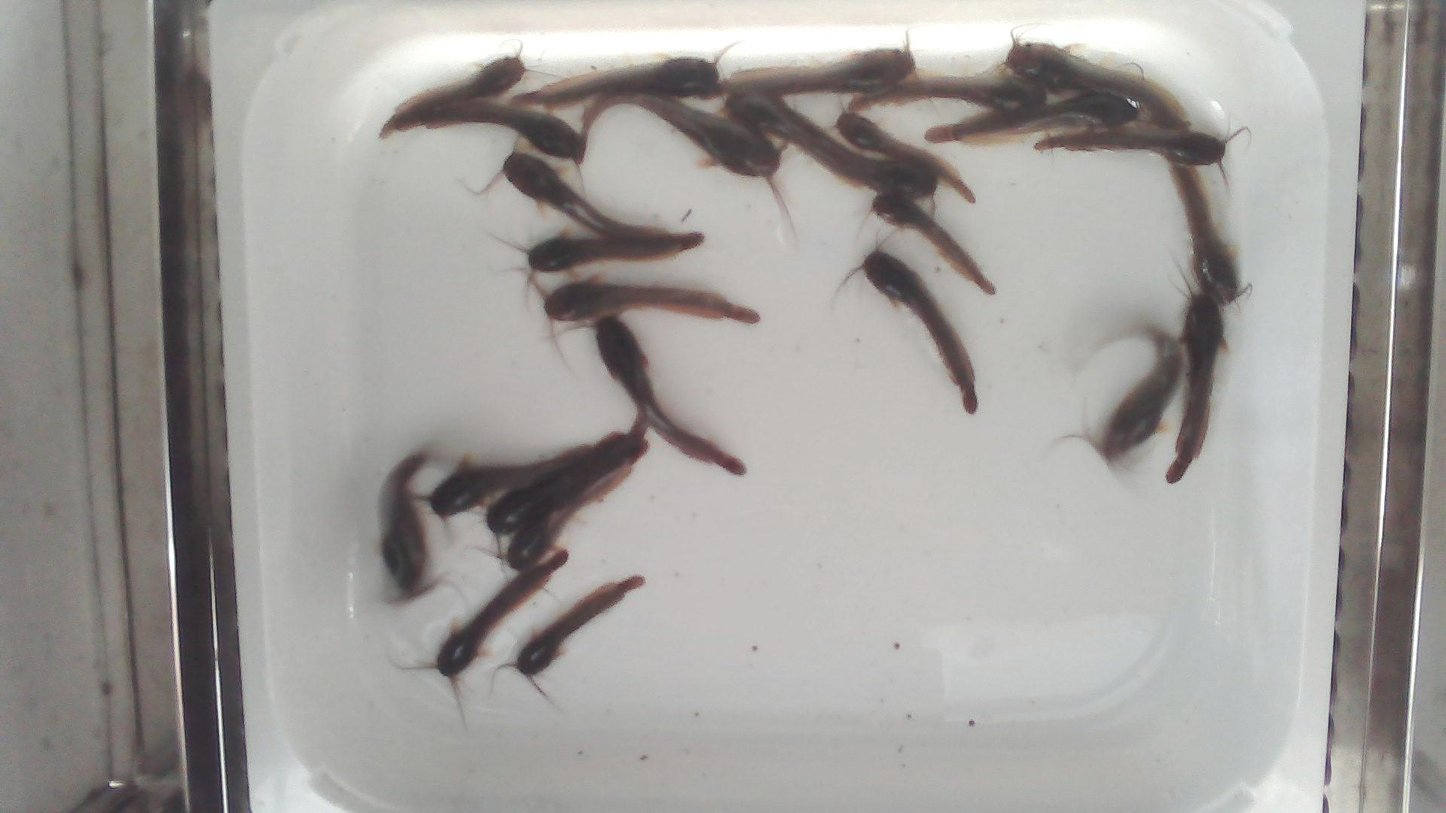lele: (597, 319, 746, 477), (851, 247, 977, 412), (506, 444, 649, 574), (577, 94, 787, 177), (433, 551, 569, 676), (1001, 44, 1191, 130), (502, 153, 667, 240), (486, 436, 624, 533), (510, 578, 642, 678), (837, 113, 978, 206), (875, 193, 995, 295), (379, 53, 523, 137), (430, 444, 590, 517), (1099, 327, 1184, 459), (1166, 295, 1225, 483), (1166, 160, 1241, 303), (925, 92, 1138, 142), (704, 48, 916, 97), (515, 60, 721, 109), (727, 88, 859, 164), (397, 106, 579, 159), (846, 73, 1048, 118), (789, 133, 933, 195), (545, 280, 757, 322), (523, 230, 706, 271), (380, 453, 432, 593), (1035, 130, 1227, 167)
